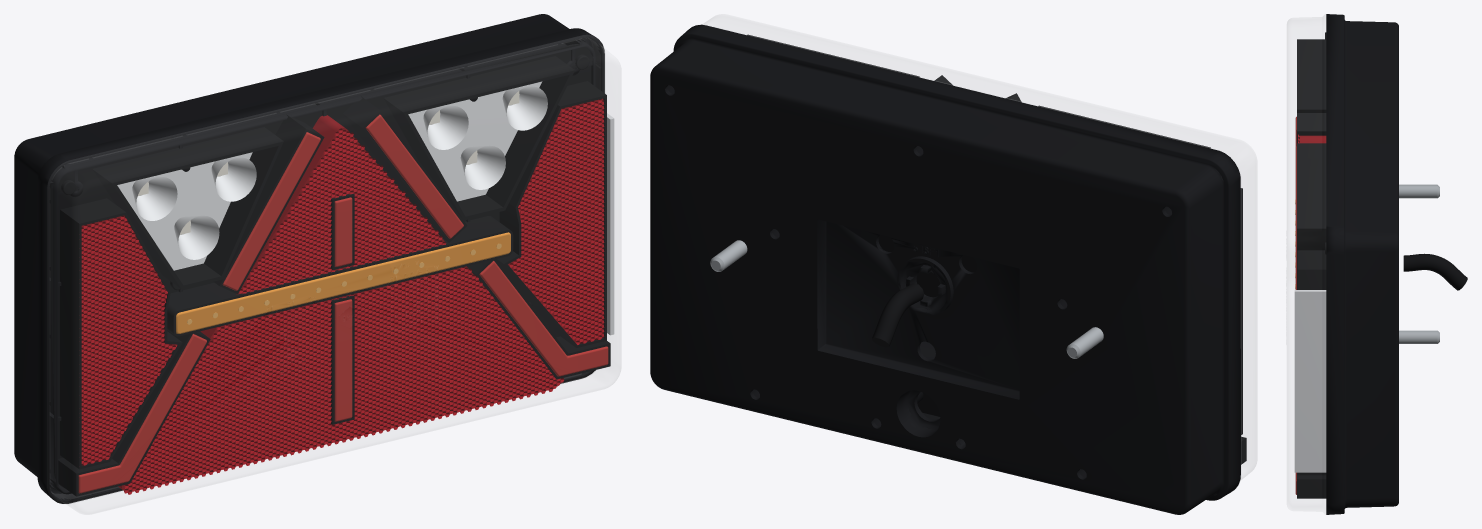
Rendered from lamp-lzd2820.glb.
The picture shows the model from 3 angles, left to right: view 1: azimuth 30°, elevation 25°; view 2: azimuth 150°, elevation 25°; view 3: azimuth 270°, elevation 25°; orthographic projection. The views are drawn at different scales.
Parts seen in each view (by area): view 1: INNER, BODY, EMIT.reverse, EMIT.position, EMIT.fog, EMIT.stop, LENS, EMIT.turn, EMIT.plate; view 2: BODY, LENS, INNER; view 3: BODY, INNER, EMIT.plate, LENS, EMIT.position.
Part boxes in pixels (x1,y1,x2,y2): INNER: [54, 44, 610, 496]; BODY: [14, 14, 604, 503]; EMIT.reverse: [117, 81, 547, 270]; EMIT.position: [78, 114, 608, 493]; EMIT.fog: [81, 215, 177, 465]; EMIT.stop: [509, 99, 604, 344]; LENS: [50, 38, 620, 514]; EMIT.turn: [176, 232, 510, 333]; EMIT.plate: [607, 113, 614, 335]; BODY: [650, 24, 1240, 514]; LENS: [702, 14, 1256, 480]; INNER: [747, 34, 1246, 464]; BODY: [1326, 14, 1467, 514]; INNER: [1297, 32, 1326, 498]; EMIT.plate: [1294, 290, 1326, 472]; LENS: [1286, 14, 1325, 514]; EMIT.position: [1295, 116, 1296, 494].
Size of the model in its own units: 0.238 by 0.14 by 0.0798.
